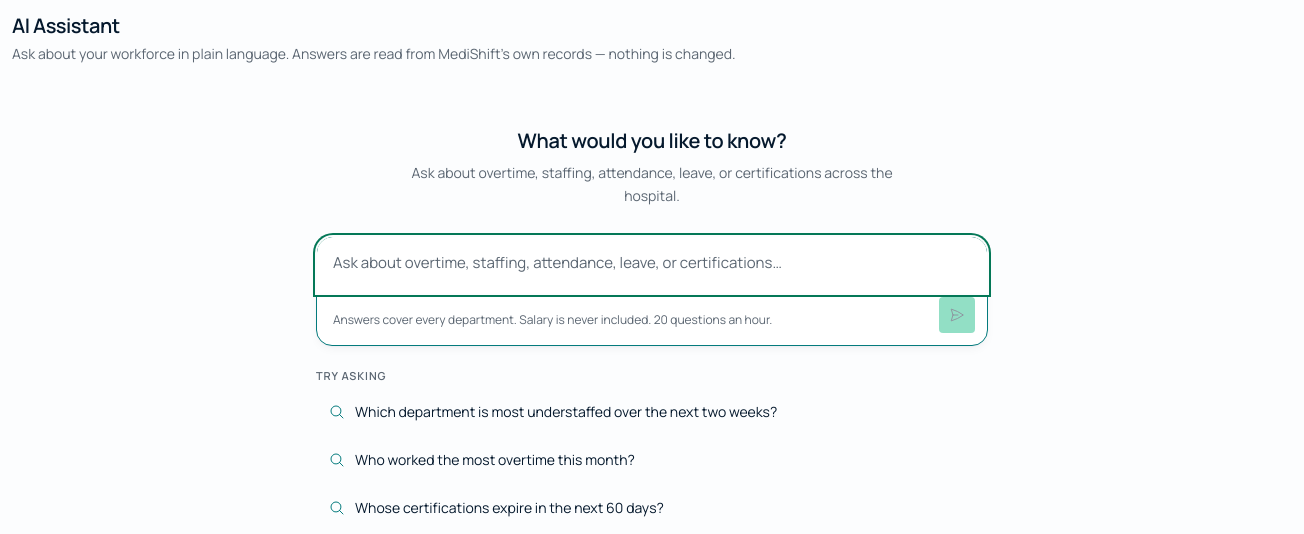
AssistantPage — asking a question › shows the answer and what it was read from
Type "Who worked the most overtime?" into the text box named "Ask the assistant a question" at coordinates (652, 264), box [317,236,987,292]
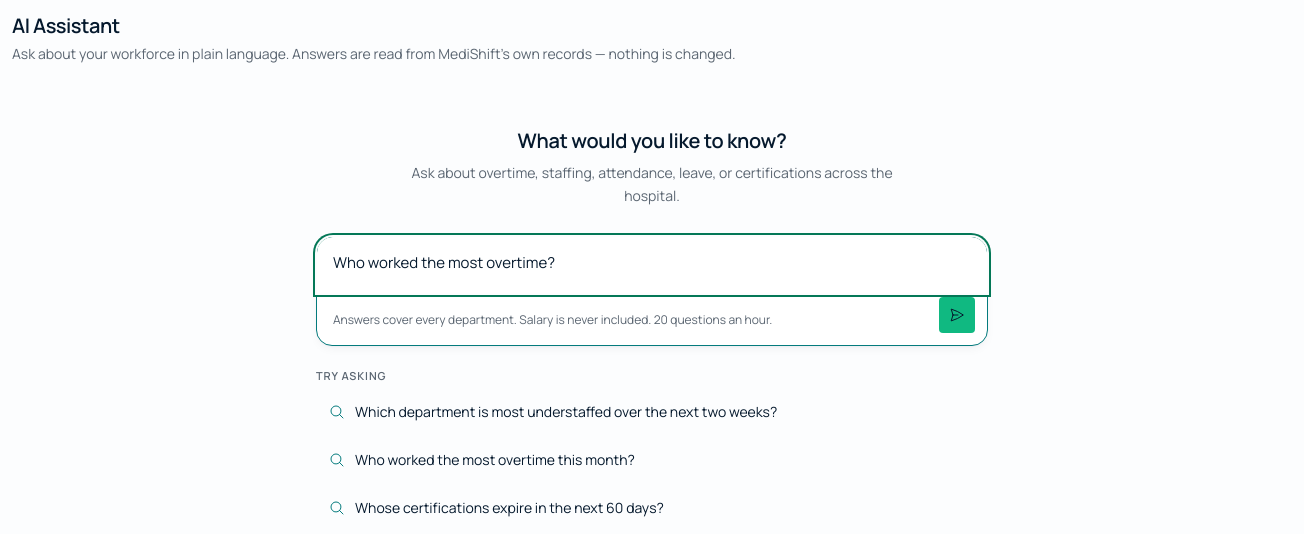
Click the button named "Send question" at coordinates (957, 314), box [939,296,975,332]
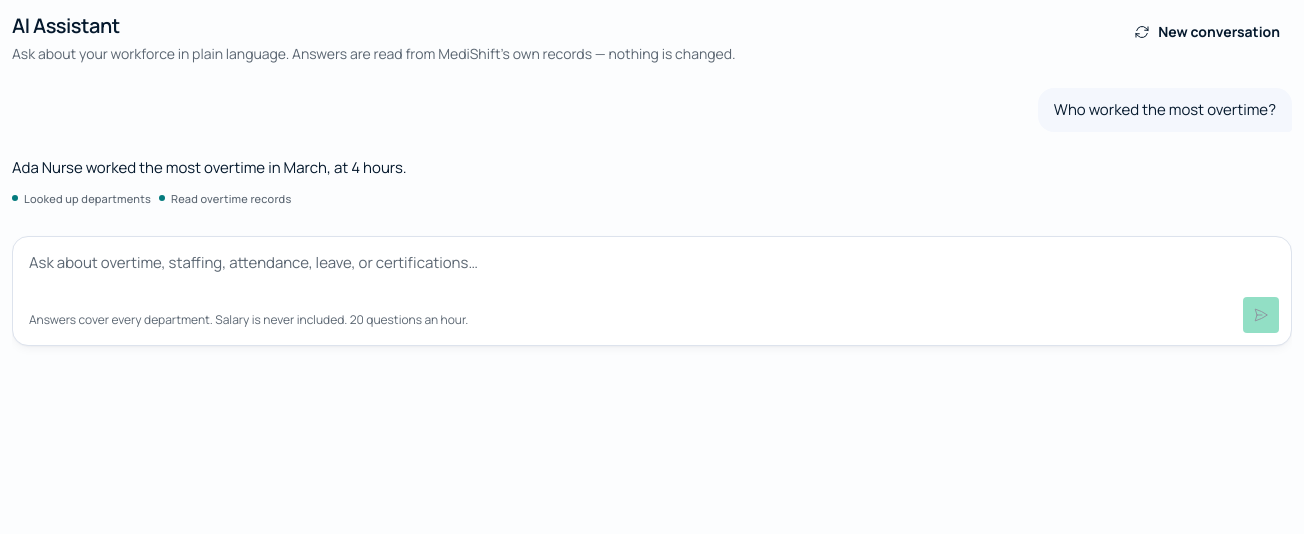
Expected: the text "Ada Nurse worked the most overtime in March, at 4 hours." is shown, [12,157,407,178]
Expected: the text "Who worked the most overtime?" is shown, [1038,88,1292,132]
Expected: the list item "Looked up departments" is shown, [12,193,151,204]
